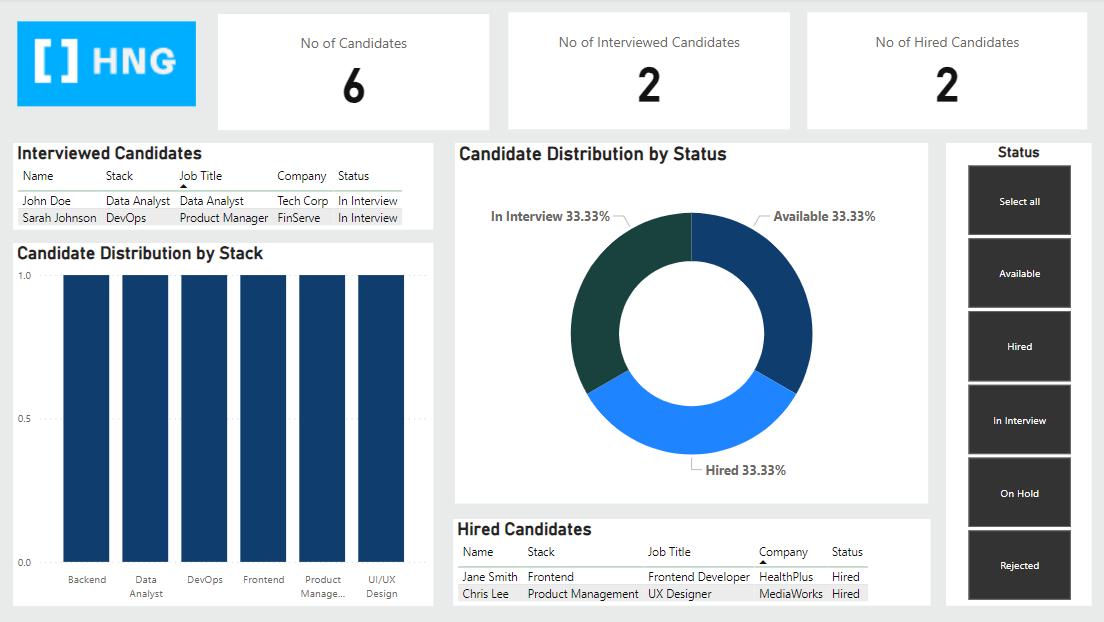

This screenshot's page, from the dashboard's own definition file:
{"tool":"powerbi","page":{"name":"Page 1","canvas":[1280,720],"ordinal":0},"visuals":[{"type":"clusteredColumnChart","title":"Candidate  Distribution by Stack","fields":{"Category":["hng_hire stack.stack_name"],"Y":["hng_hire candidates.candidate_id"]},"box":[18,282.4,485.3,418.5],"z":0},{"type":"tableEx","title":"Interviewed Candidates","fields":{"Values":["hng_hire candidates.full_name","hng_hire stack.stack_name","hng_hire job_roles.job_title","hng_hire employers.company_name","hng_hire status.status_name"]},"box":[18,166.9,485.3,100.1],"z":1},{"type":"slicer","title":"Status","fields":{"Values":["hng_hire status.status_name"]},"box":[1095.1,166.9,168.2,534.1],"z":2},{"type":"tableEx","title":"Hired Candidates","fields":{"Values":["hng_hire candidates.full_name","hng_hire stack.stack_name","hng_hire job_roles.job_title","hng_hire employers.company_name","hng_hire status.status_name"]},"box":[526.4,600.8,550.8,100.1],"z":3},{"type":"cardVisual","title":"No of Candidates","fields":{"Data":["hng_hire candidates.candidate_id"]},"box":[255.5,18,313.3,133.5],"z":4},{"type":"donutChart","title":"Candidate Distribution by Status","fields":{"Category":["hng_hire status.status_name"],"Y":["hng_hire candidates.candidate_id"]},"box":[528.9,166.9,545.6,416],"z":5},{"type":"cardVisual","title":"Hired Candidates","fields":{"Data":["hng_hire candidates.candidate_id"]},"box":[929.5,11.6,333.8,145.1],"z":6},{"type":"cardVisual","title":"Hired Candidates","fields":{"Data":["hng_hire candidates.candidate_id"]},"box":[585.4,11.6,335.1,145.1],"z":7},{"type":"image","box":[18,0,215.7,151.5],"z":9}]}

Visuals, with their boxes in screenshot pixels (x1, y1, x2, y2), scaled from the page's 1280x720 canvas onto the 1104x622 screenshot:
"Candidate  Distribution by Stack" clusteredColumnChart: region(16, 244, 434, 605)
"Interviewed Candidates" tableEx: region(16, 144, 434, 231)
"Status" slicer: region(945, 144, 1090, 606)
"Hired Candidates" tableEx: region(454, 519, 929, 605)
"No of Candidates" cardVisual: region(220, 16, 491, 131)
"Candidate Distribution by Status" donutChart: region(456, 144, 927, 504)
"Hired Candidates" cardVisual: region(802, 10, 1090, 135)
"Hired Candidates" cardVisual: region(505, 10, 794, 135)
image: region(16, 0, 202, 131)
